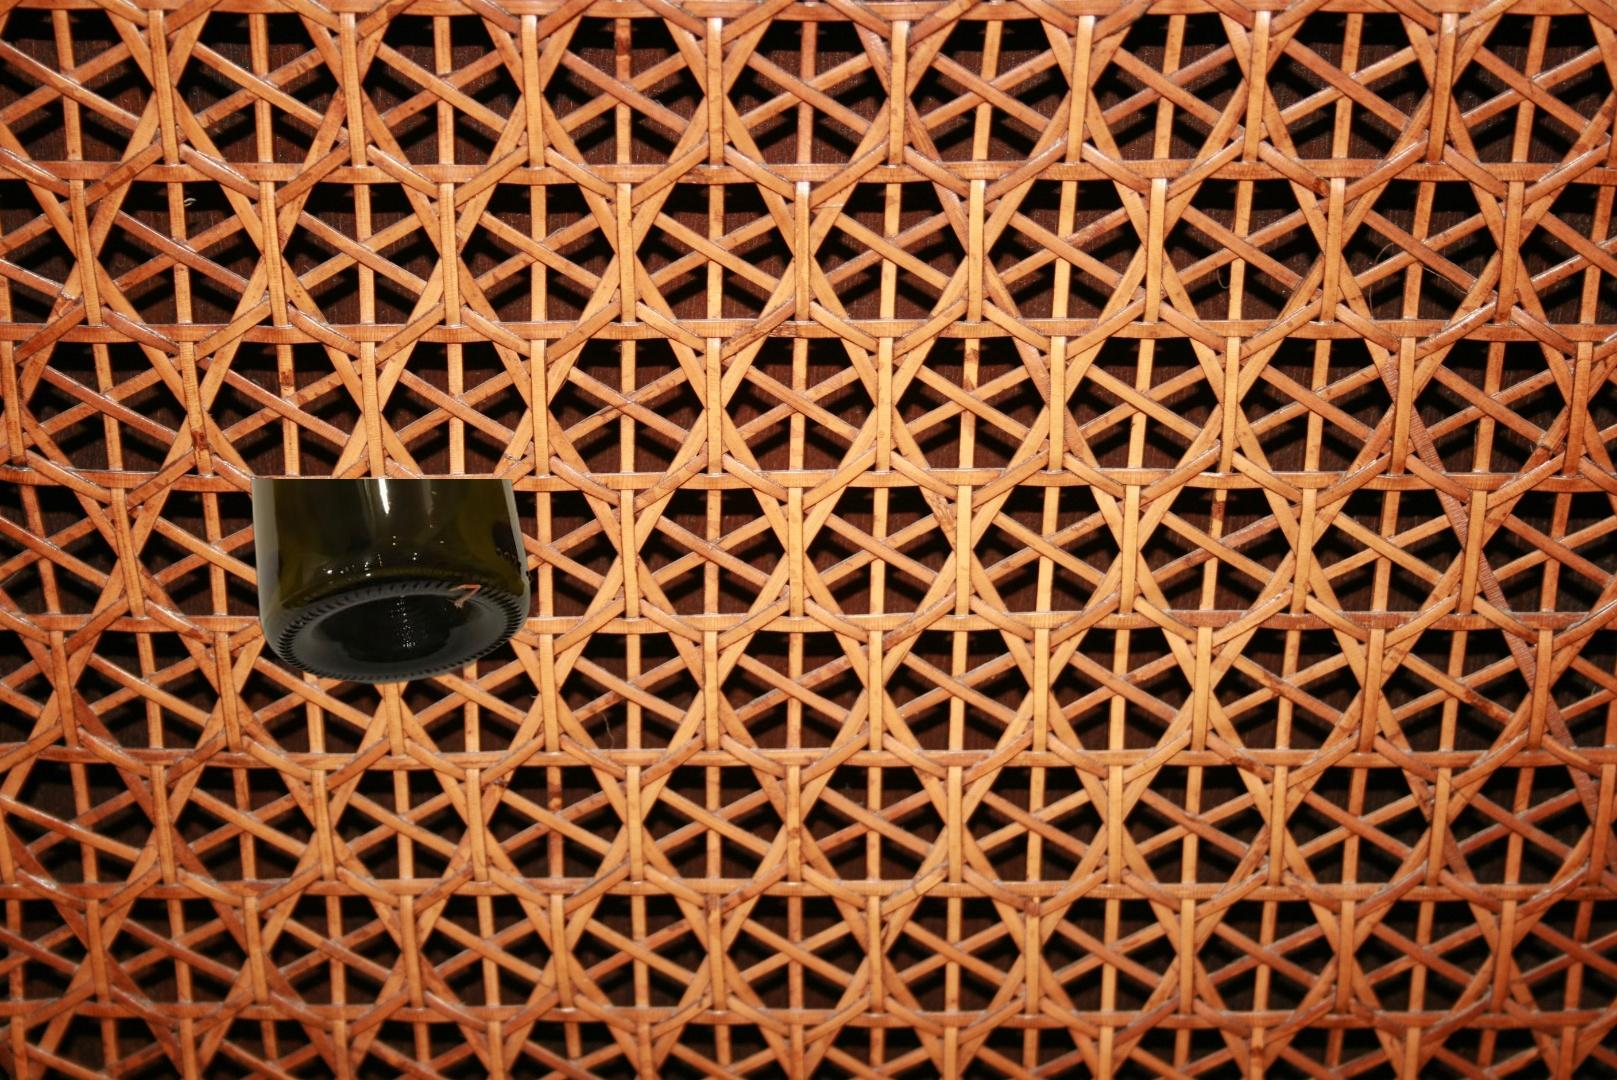glass: (246, 479, 536, 688)
